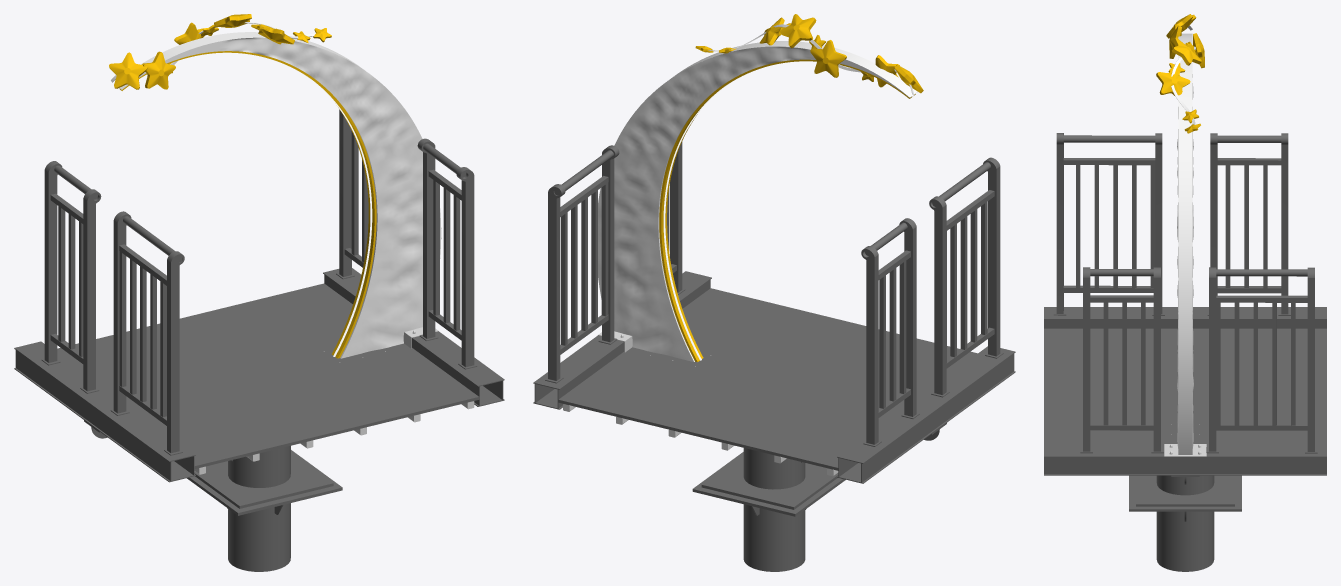
Rendered from JNCD_modeling.glb.glb.
The picture shows the model from 3 angles, left to right: view 1: azimuth 30°, elevation 25°; view 2: azimuth 150°, elevation 25°; view 3: azimuth 270°, elevation 25°; orthographic projection. The views are drawn at different scales.
Visible parts, largest first — view 1: Layer:천연목재, Object5869, Group178606, Object5868, Shape11228, Layer:CS-CNTL, Circle051, Shape11229, Layer:주거더, Star059, Star057, Shape11232; view 2: Layer:천연목재, Object5869, Group178606, Object5868, Shape11228, Layer:CS-CNTL, Circle051, Shape11229, Layer:주거더, Star062, Shape11232, Star061; view 3: Layer:천연목재, Object5868, Object5869, Shape11228, Circle051, Layer:CS-CNTL, Shape11229, Layer:주거더, Group178606, Star063, Star061, Rectangle007.
Boxes of the visible parts, bbox=[...] form: Layer:천연목재: bbox=[57, 283, 479, 468]; Object5869: bbox=[41, 161, 184, 455]; Group178606: bbox=[210, 37, 441, 358]; Object5868: bbox=[336, 109, 477, 369]; Shape11228: bbox=[14, 268, 504, 482]; Layer:CS-CNTL: bbox=[228, 446, 290, 571]; Circle051: bbox=[119, 32, 441, 358]; Shape11229: bbox=[194, 452, 333, 508]; Layer:주거더: bbox=[187, 450, 342, 515]; Star059: bbox=[109, 52, 147, 89]; Star057: bbox=[142, 51, 175, 89]; Shape11232: bbox=[118, 64, 372, 356]; Layer:천연목재: bbox=[558, 288, 977, 470]; Object5869: bbox=[861, 157, 1003, 446]; Group178606: bbox=[598, 46, 815, 361]; Object5868: bbox=[545, 141, 685, 383]; Shape11228: bbox=[533, 271, 1015, 483]; Layer:CS-CNTL: bbox=[743, 448, 805, 571]; Circle051: bbox=[658, 41, 917, 361]; Shape11229: bbox=[701, 454, 838, 509]; Layer:주거더: bbox=[692, 452, 845, 516]; Star062: bbox=[810, 40, 846, 77]; Shape11232: bbox=[663, 73, 914, 360]; Star061: bbox=[780, 14, 816, 48]; Layer:천연목재: bbox=[1044, 328, 1326, 444]; Object5868: bbox=[1080, 267, 1317, 453]; Object5869: bbox=[1053, 133, 1290, 315]; Shape11228: bbox=[1044, 307, 1326, 475]; Circle051: bbox=[1178, 33, 1192, 454]; Layer:CS-CNTL: bbox=[1156, 475, 1214, 571]; Shape11229: bbox=[1136, 475, 1234, 506]; Layer:주거더: bbox=[1129, 475, 1241, 511]; Group178606: bbox=[1177, 74, 1193, 448]; Star063: bbox=[1156, 66, 1190, 95]; Star061: bbox=[1171, 37, 1201, 65]; Rectangle007: bbox=[1164, 444, 1206, 456].
Size of the model in its own units: 2.58 by 3.95 by 2.
